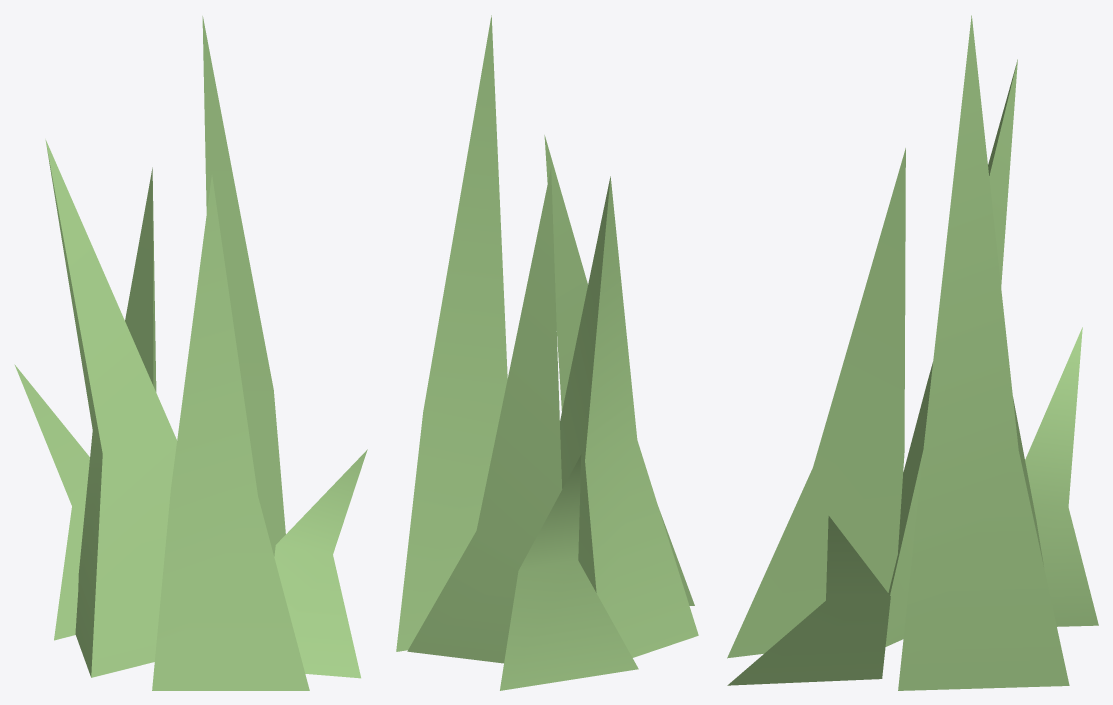
Rendered from grassjoined - Copy.fbx.
The picture shows the model from 3 angles, left to right: view 1: azimuth 30°, elevation 25°; view 2: azimuth 150°, elevation 25°; view 3: azimuth 270°, elevation 25°; orthographic projection. The views are drawn at different scales.
Visible parts, largest first — view 1: grassjoined; view 2: grassjoined; view 3: grassjoined.
Part boxes in pixels (x1,y1,x2,y2): grassjoined: (14,16,367,690); grassjoined: (396,15,698,690); grassjoined: (727,15,1098,690).
Size of the model in its own units: 0.3163 by 0.7067 by 0.3666.
1 material, 1 textured.
